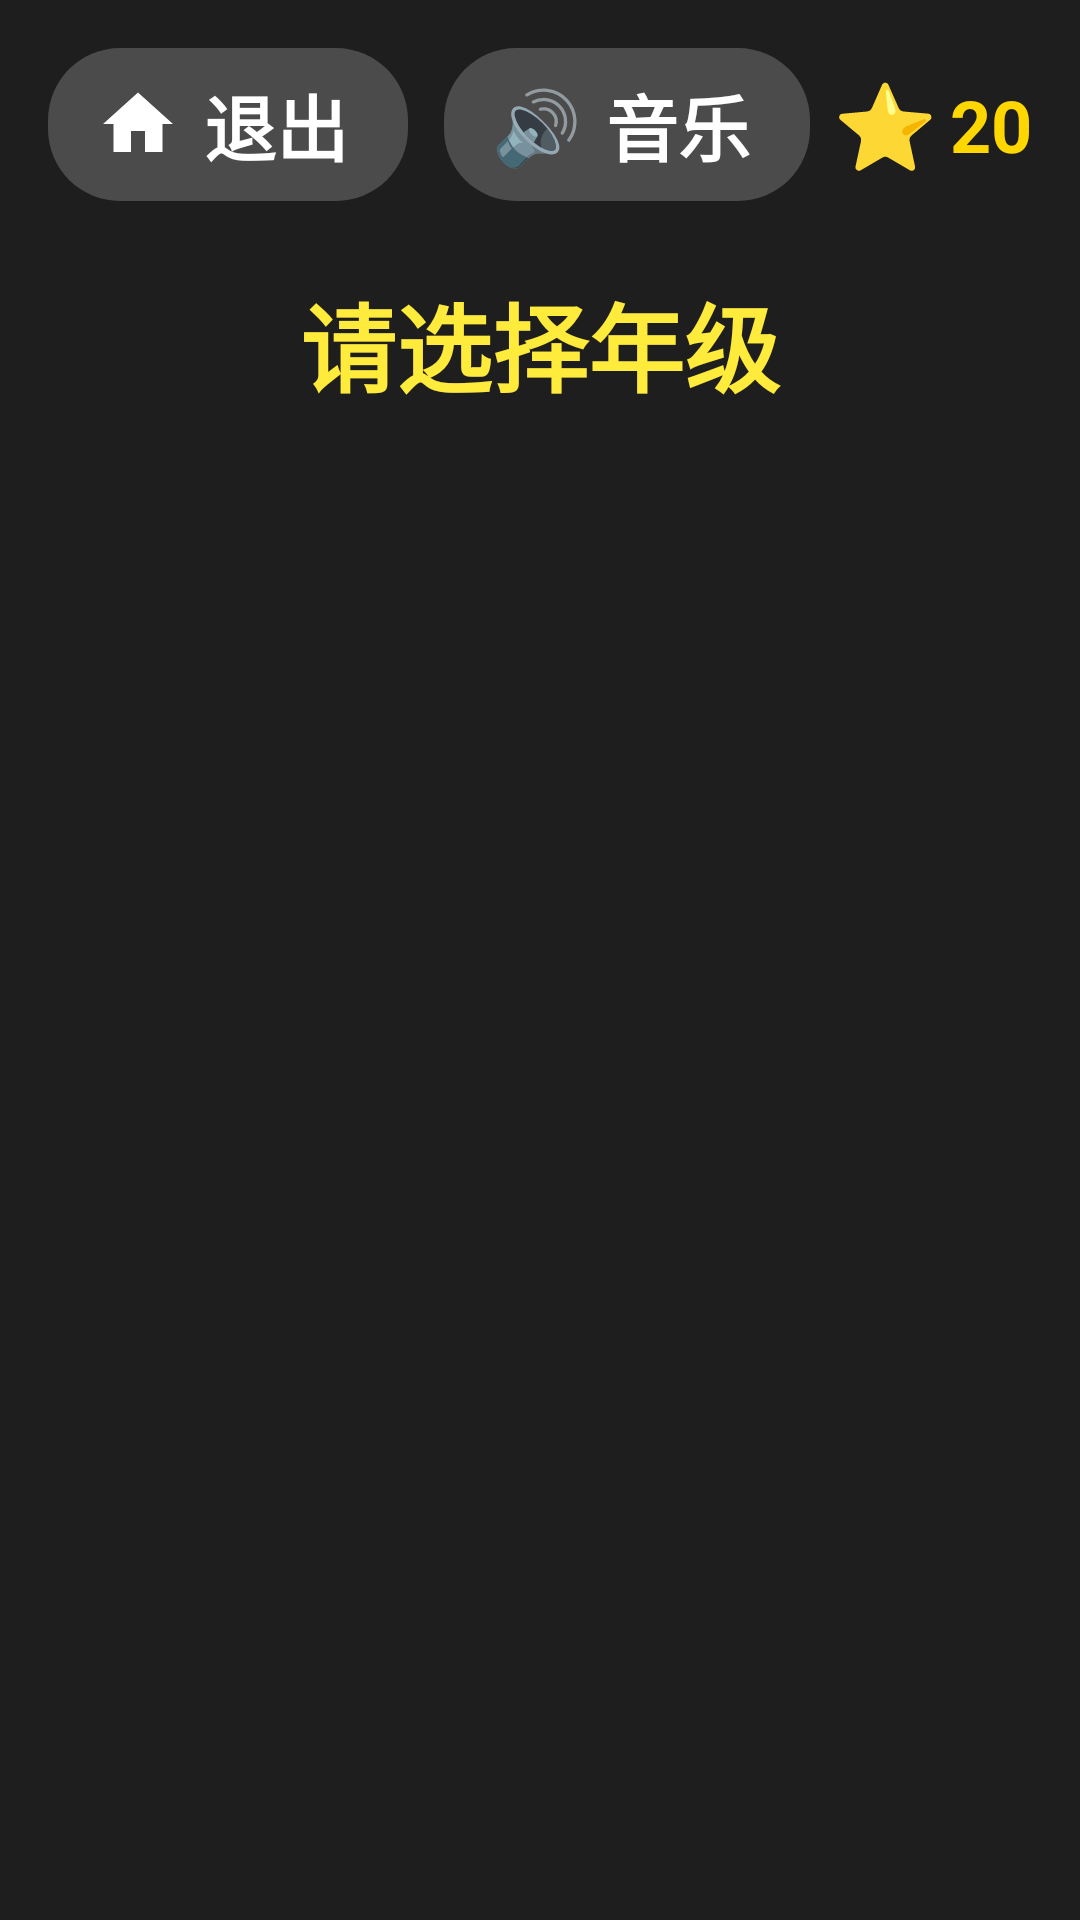

Named icons in this screenshot (1080px×1920px) and their bounding boxes, (x1, y1, x2, y2):
home: (103, 93, 173, 152)
